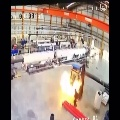fire: (60, 71, 82, 96)
